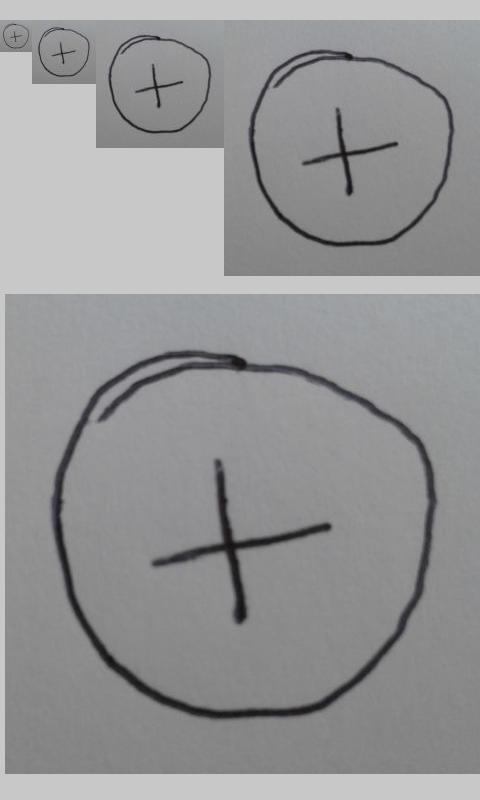button: (48, 346, 440, 722), (248, 48, 455, 248), (108, 34, 212, 134), (38, 27, 91, 78), (3, 23, 29, 49)
